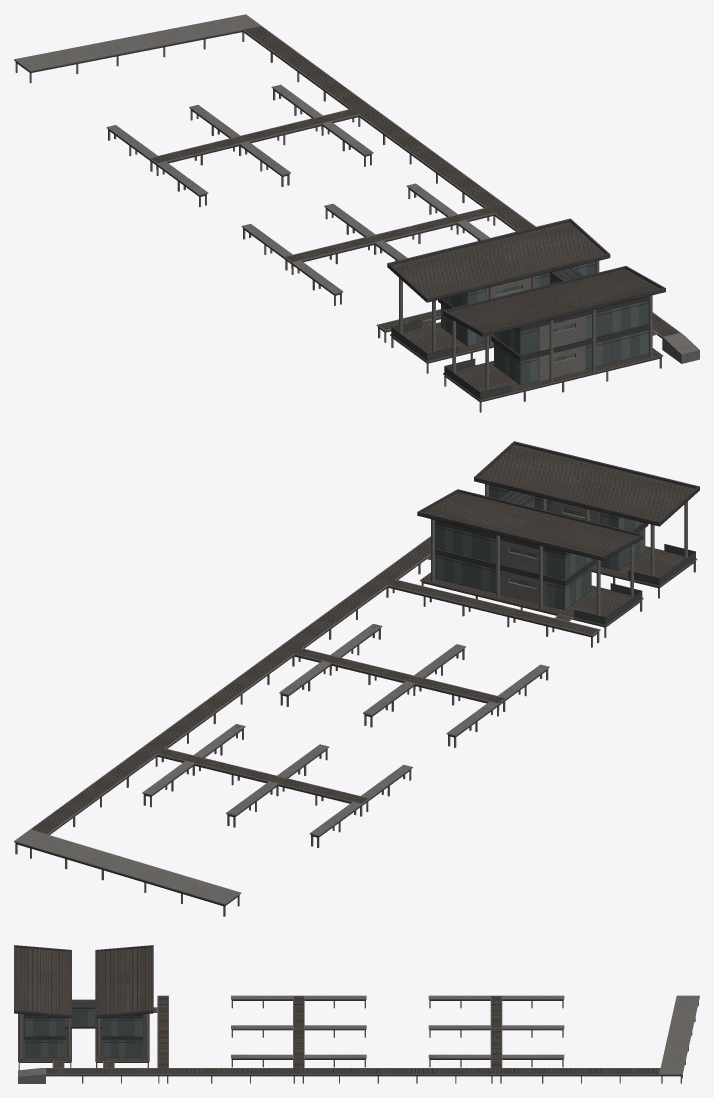
Rendered from marina.glb.
3 renders of one model, top to bottom at view 1: azimuth 30°, elevation 25°; view 2: azimuth 150°, elevation 25°; view 3: azimuth 270°, elevation 25°, orthographic. The views are drawn at different scales.
Visible parts, largest first — view 1: Charlson Marine; view 2: Charlson Marine; view 3: Charlson Marine.
Boxes of the visible parts, x1,y1,x2,y2 form: Charlson Marine: (14, 14, 699, 412); Charlson Marine: (14, 441, 699, 916); Charlson Marine: (14, 945, 699, 1083).
Bounding box in the file's own units: 24 × 8.57 × 88.5.
Materials: 1 (1 with a texture image).
